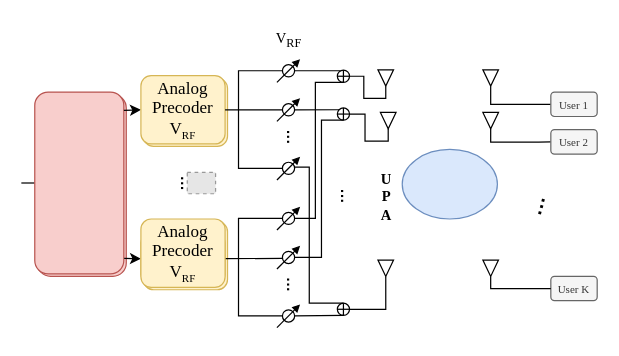
This 619x356 diagram has some shape labels left out. Grey dashed boxes stand in for pictures. Each missing label, with the centre of its shape:
Channel H: point 449,183
Digital Precoder V Dig: point 79,182
